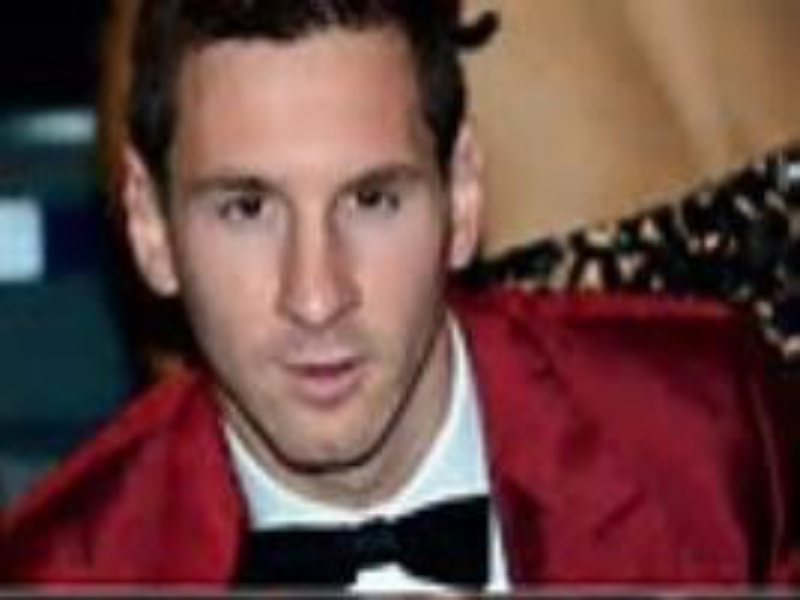TsisyArotava: (101, 1, 530, 493)
